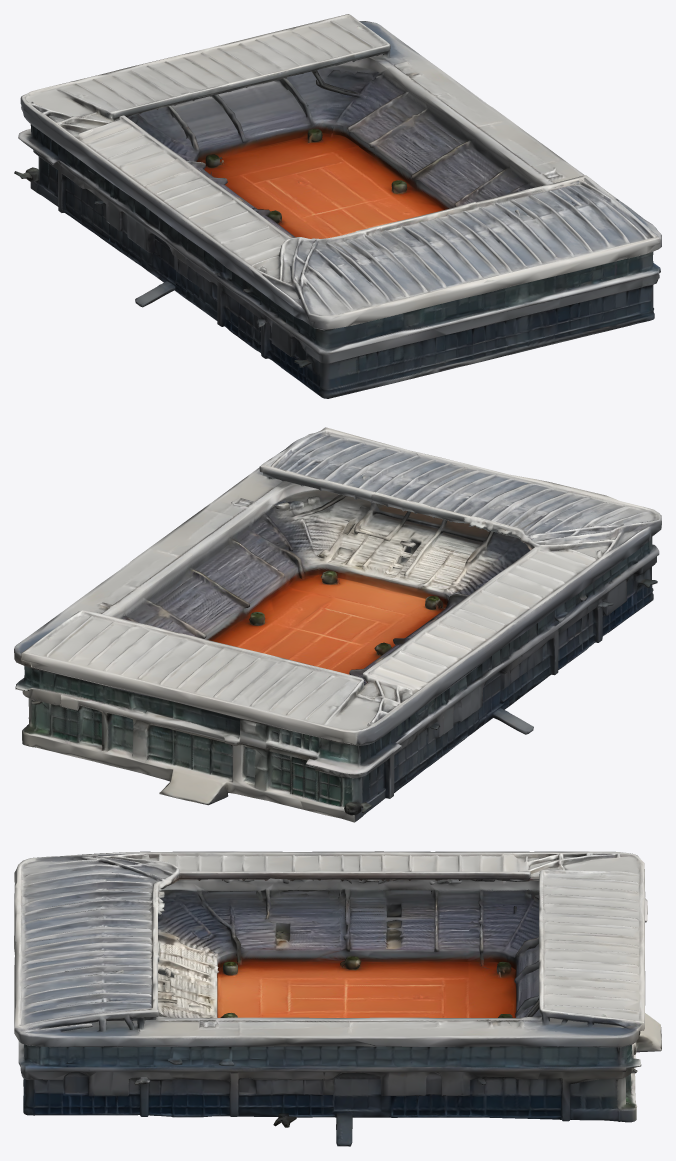
Rendered from stadion_rg.glb.
3 renders of one model, top to bottom at view 1: azimuth 30°, elevation 25°; view 2: azimuth 150°, elevation 25°; view 3: azimuth 270°, elevation 25°, orthographic. The views are drawn at different scales.
Parts seen in each view (by area): view 1: tripo_node_65f47476-2eca-41ec-b03b-e9888a40ea00; view 2: tripo_node_65f47476-2eca-41ec-b03b-e9888a40ea00; view 3: tripo_node_65f47476-2eca-41ec-b03b-e9888a40ea00.
Part boxes in pixels (x1,y1,x2,y2): tripo_node_65f47476-2eca-41ec-b03b-e9888a40ea00: (14, 14, 661, 398); tripo_node_65f47476-2eca-41ec-b03b-e9888a40ea00: (14, 427, 661, 822); tripo_node_65f47476-2eca-41ec-b03b-e9888a40ea00: (14, 851, 661, 1146).
Bounding box in the file's own units: 0.7401 × 0.1927 × 1.
Materials: 1 (1 with a texture image).
